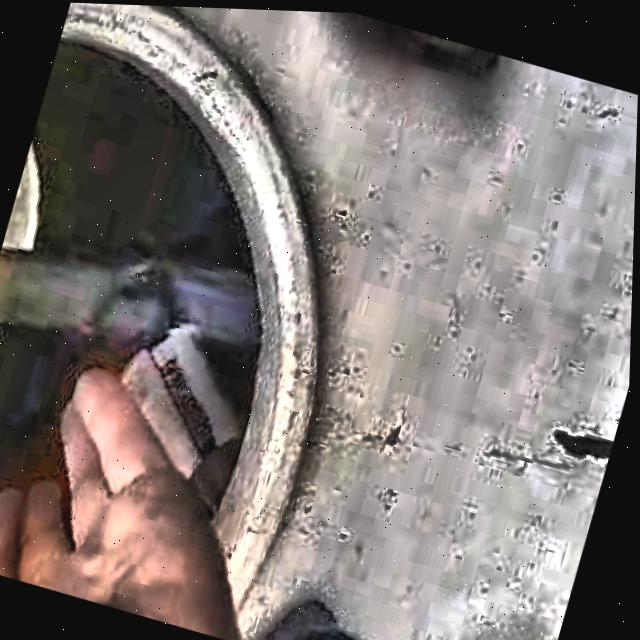glass: (125, 324, 243, 512)
